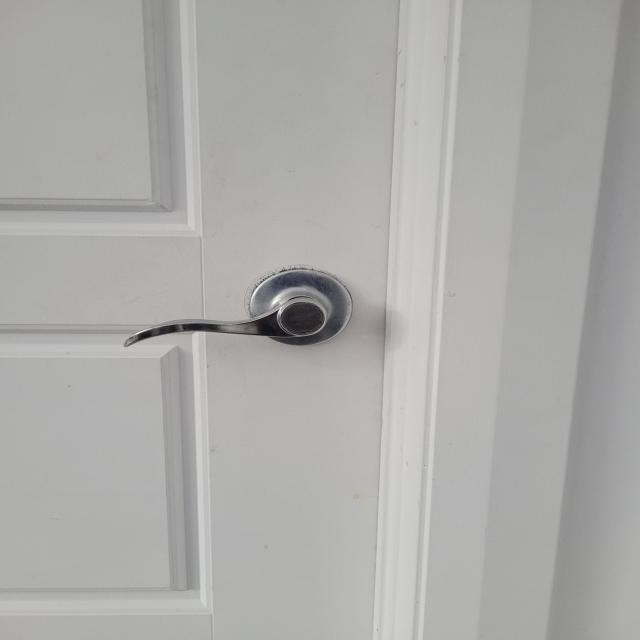door-handle: (123, 265, 352, 346)
